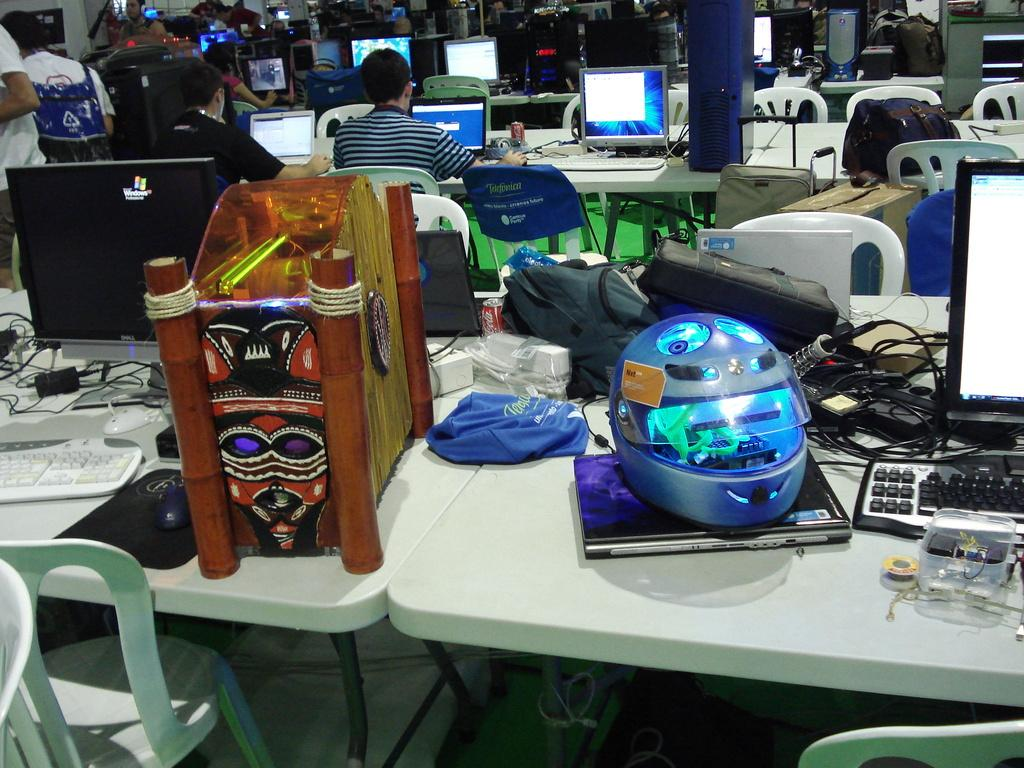helmet: (609, 312, 812, 532)
nohelmet: (359, 47, 413, 115), (178, 62, 226, 124)
